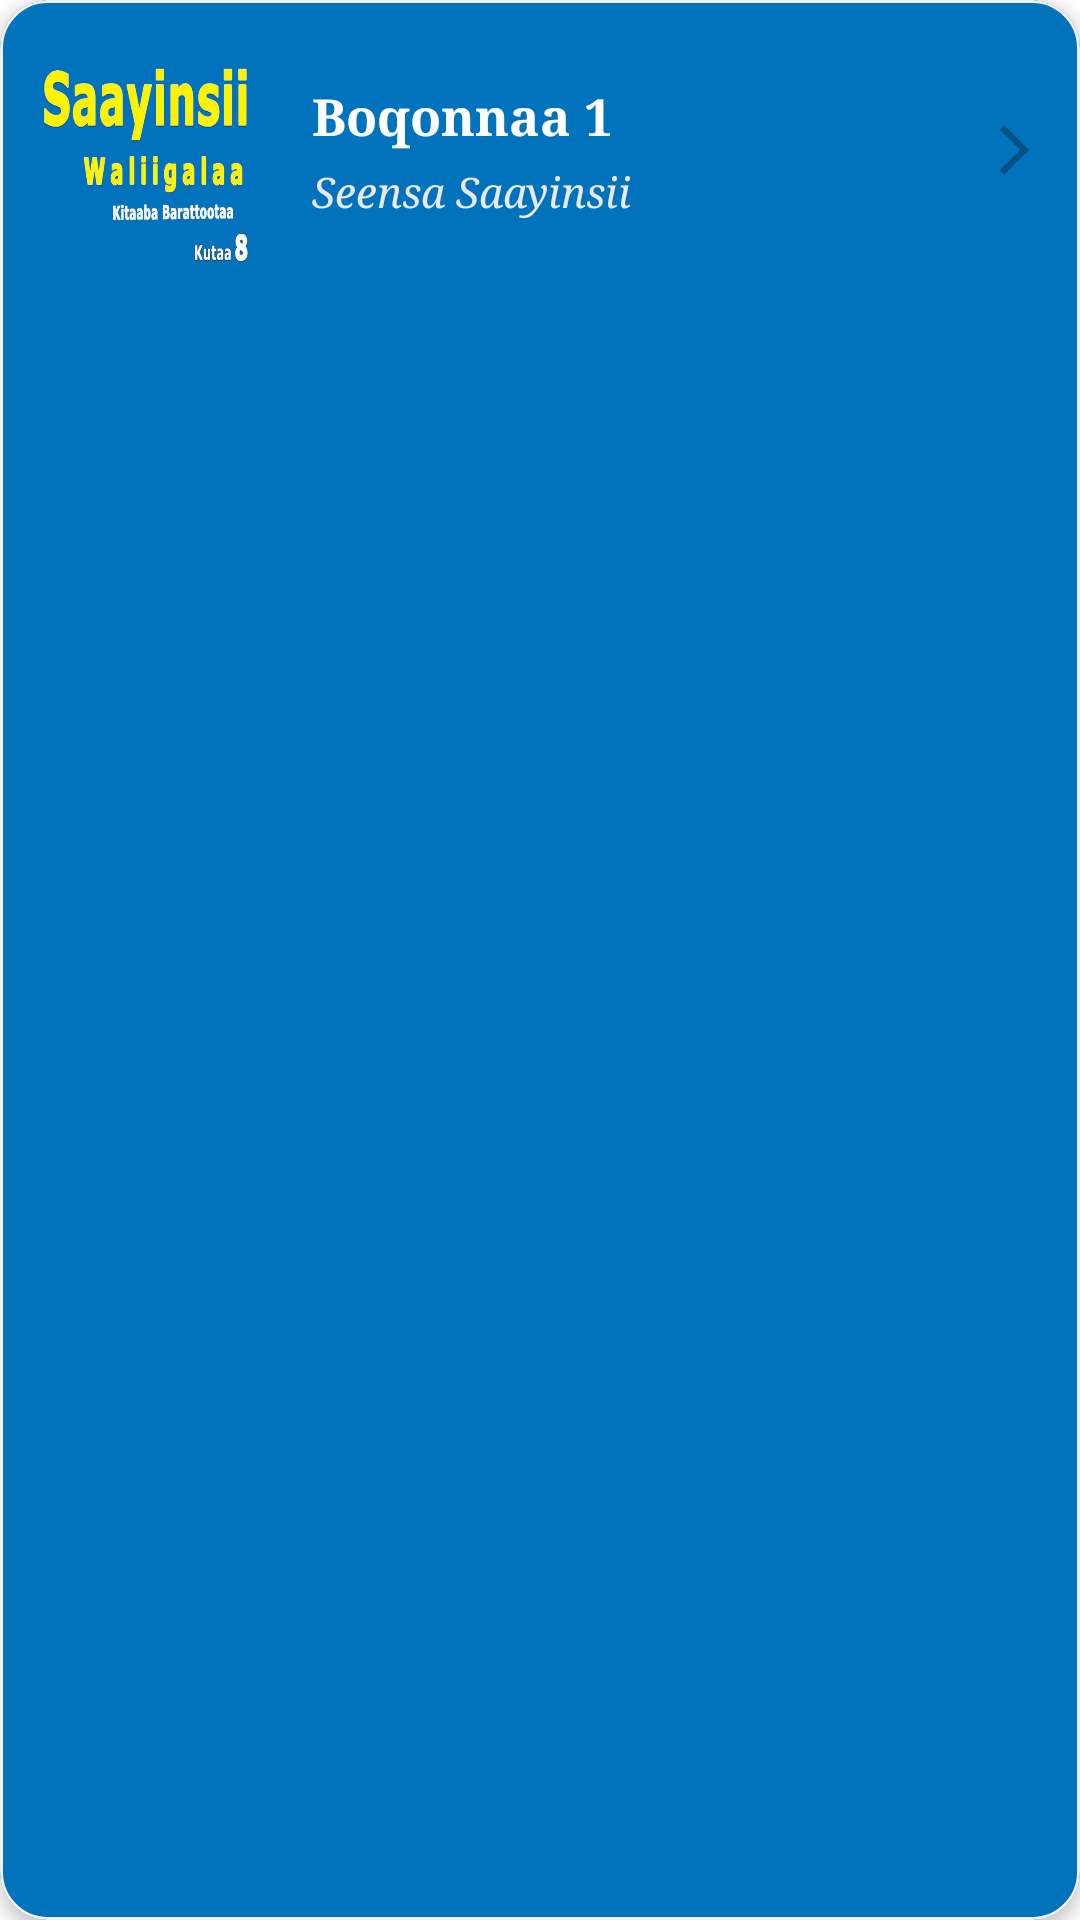

Where to tap for icons on this 1080*1920 app screen, as [x,y]:
arrow forward: [1014,150]
